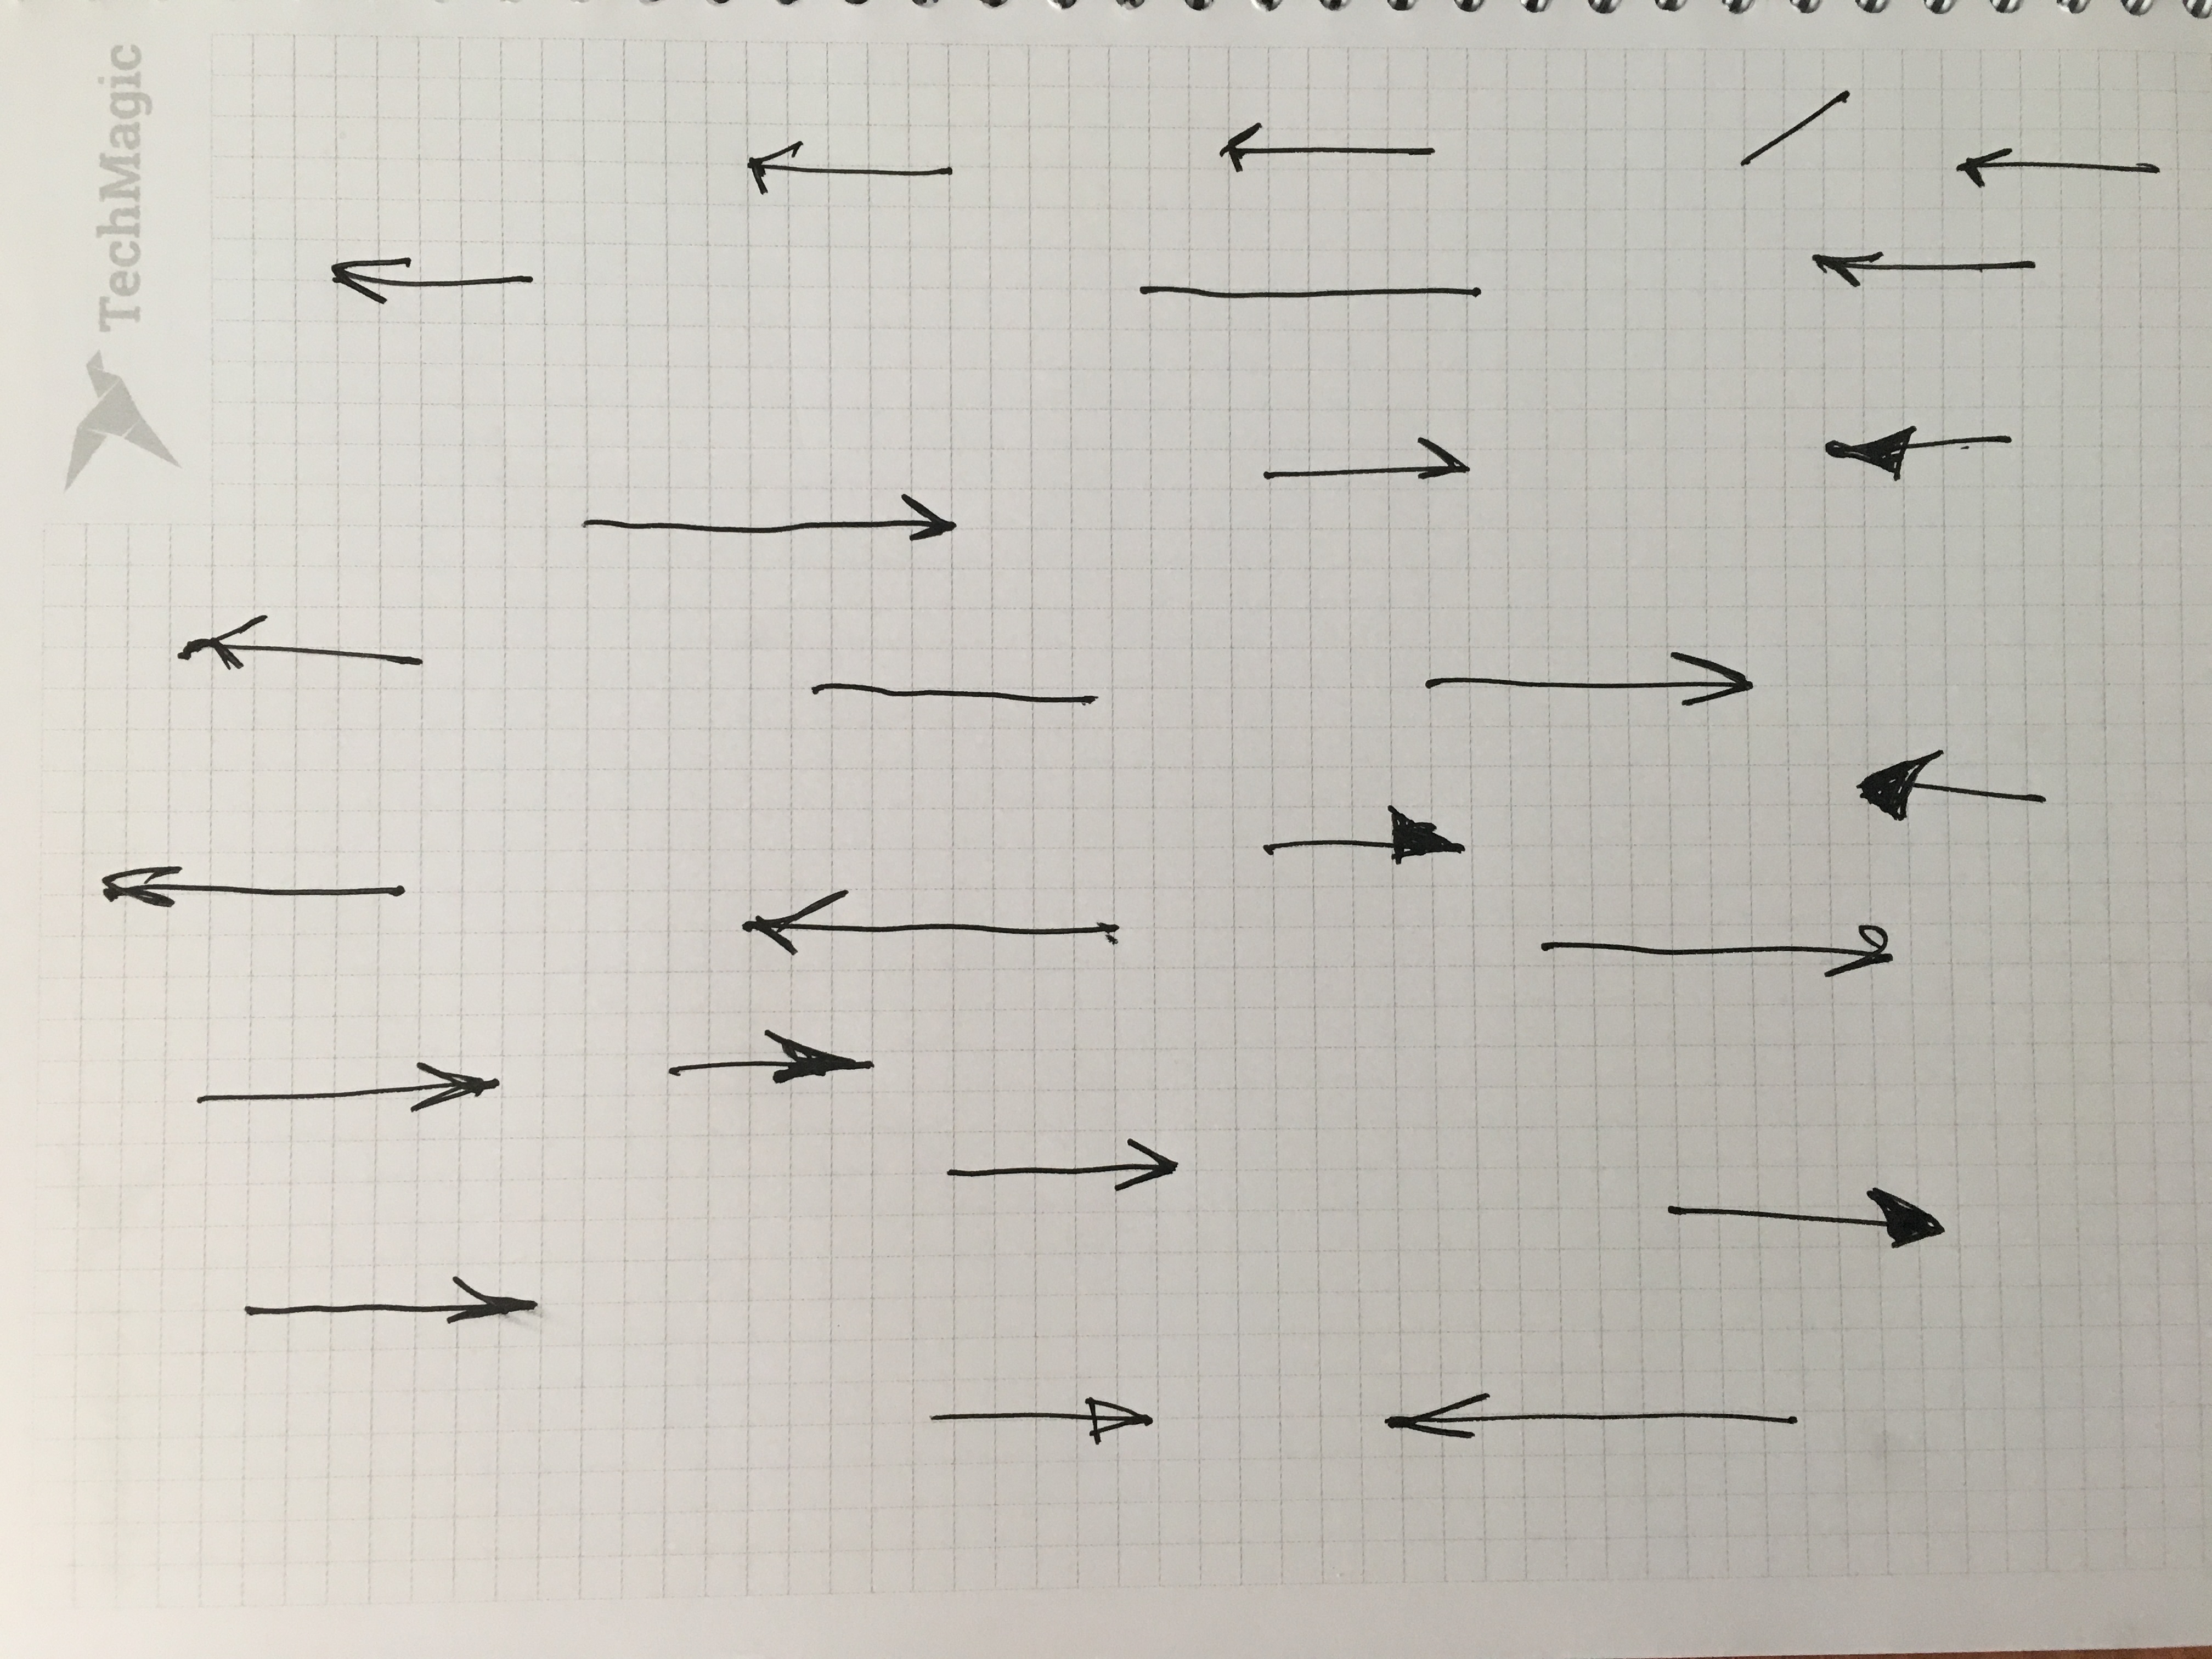arrow: (747, 1023, 894, 1107), (427, 1263, 557, 1345), (1851, 1173, 1961, 1265), (94, 842, 206, 929), (314, 239, 430, 321), (737, 887, 864, 962), (1642, 643, 1766, 720), (1362, 802, 1482, 880), (1846, 744, 1963, 824), (1379, 1378, 1507, 1448), (1801, 917, 1916, 993), (171, 605, 293, 676), (1818, 415, 1937, 488), (397, 1056, 519, 1126), (1083, 1129, 1198, 1199), (1059, 1378, 1169, 1450), (1392, 432, 1489, 500), (730, 136, 826, 200), (1804, 240, 1898, 301), (1200, 117, 1287, 181), (881, 483, 963, 551), (1949, 141, 2033, 193)
